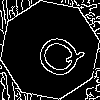Q: (25, 25, 87, 85)
